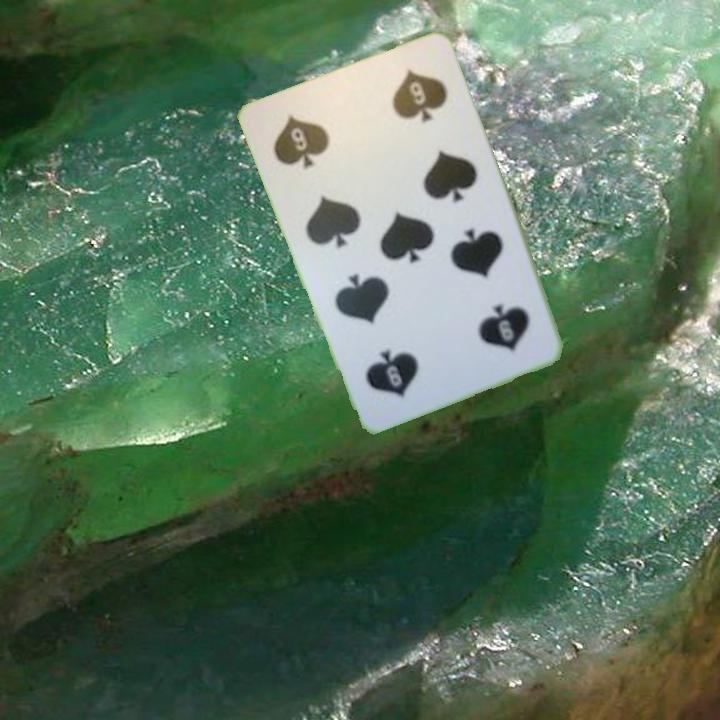s_9.png: (255, 82, 378, 197), (428, 269, 550, 383)
